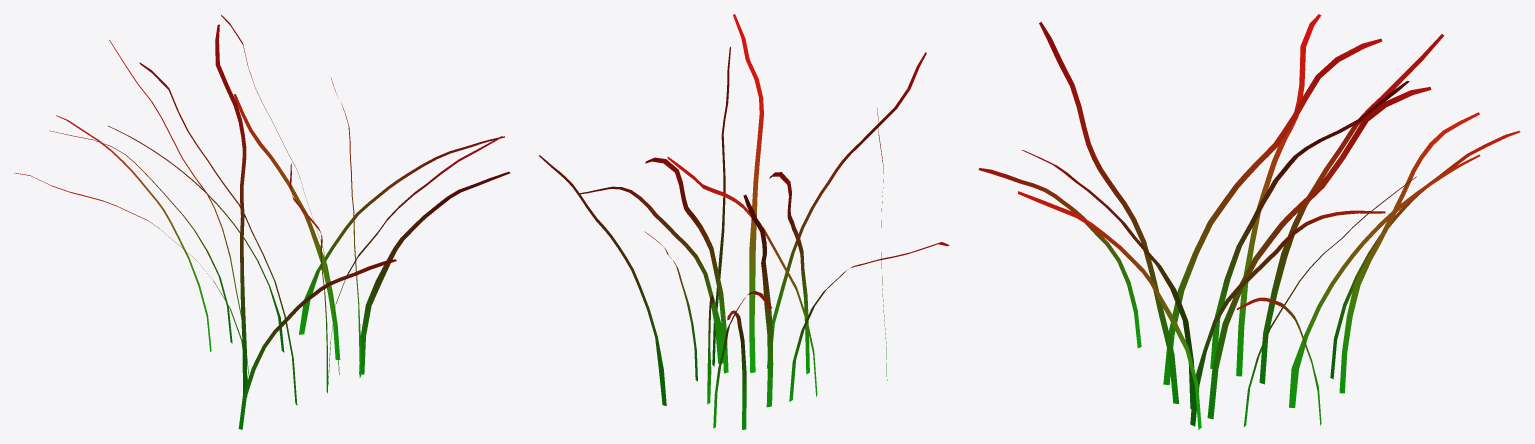
The model's file is Cotton Grass_LOD1_Var7_wlykecdia.fbx.
3 renders of one model, left to right at view 1: azimuth 30°, elevation 25°; view 2: azimuth 150°, elevation 25°; view 3: azimuth 270°, elevation 25°, orthographic. The views are drawn at different scales.
Parts seen in each view (by area): view 1: _vkul_Var7_LOD1; view 2: _vkul_Var7_LOD1; view 3: _vkul_Var7_LOD1.
Boxes of the visible parts, x1,y1,x2,y2 form: _vkul_Var7_LOD1: (14, 15, 510, 429); _vkul_Var7_LOD1: (539, 14, 949, 429); _vkul_Var7_LOD1: (978, 14, 1520, 429).
Size of the model in its own units: 23.89 by 15.12 by 22.45.
